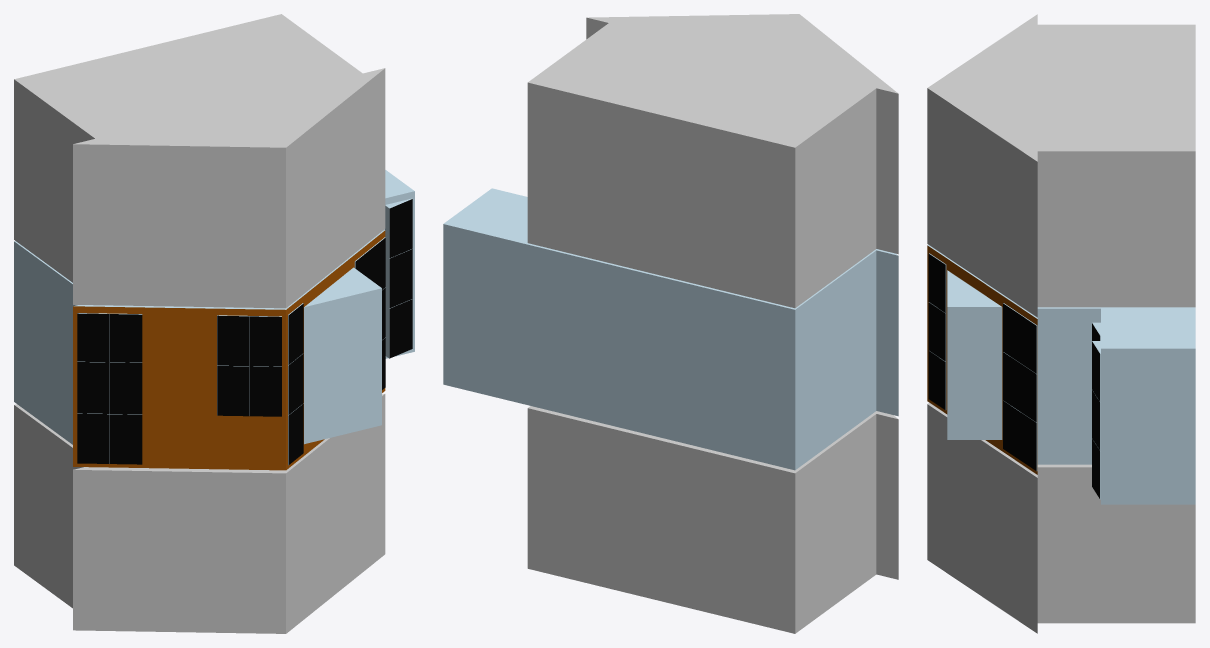
File: house2.glb
3 renders of one model, left to right at view 1: azimuth 30°, elevation 25°; view 2: azimuth 150°, elevation 25°; view 3: azimuth 270°, elevation 25°, orthographic. The views are drawn at different scales.
Visible parts, largest first — view 1: Part 3, Part 1, Part 2; view 2: Part 3, Part 1, Part 2; view 3: Part 3, Part 1, Part 2.
Boxes of the visible parts, <box> form: Part 3: <box>14,14,385,308</box>; Part 1: <box>14,170,414,470</box>; Part 2: <box>14,394,385,633</box>; Part 3: <box>527,14,898,308</box>; Part 1: <box>443,188,898,470</box>; Part 2: <box>527,406,898,633</box>; Part 3: <box>927,14,1195,317</box>; Part 1: <box>927,244,1195,504</box>; Part 2: <box>927,403,1195,633</box>.
Bounding box in the file's own units: 13.29 × 16.5 × 8.5.
